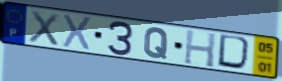3: (105, 19, 136, 57)
D: (216, 33, 255, 73)
H: (182, 28, 218, 70)
Q: (142, 26, 170, 61)
X: (61, 13, 94, 53), (27, 9, 60, 48)
